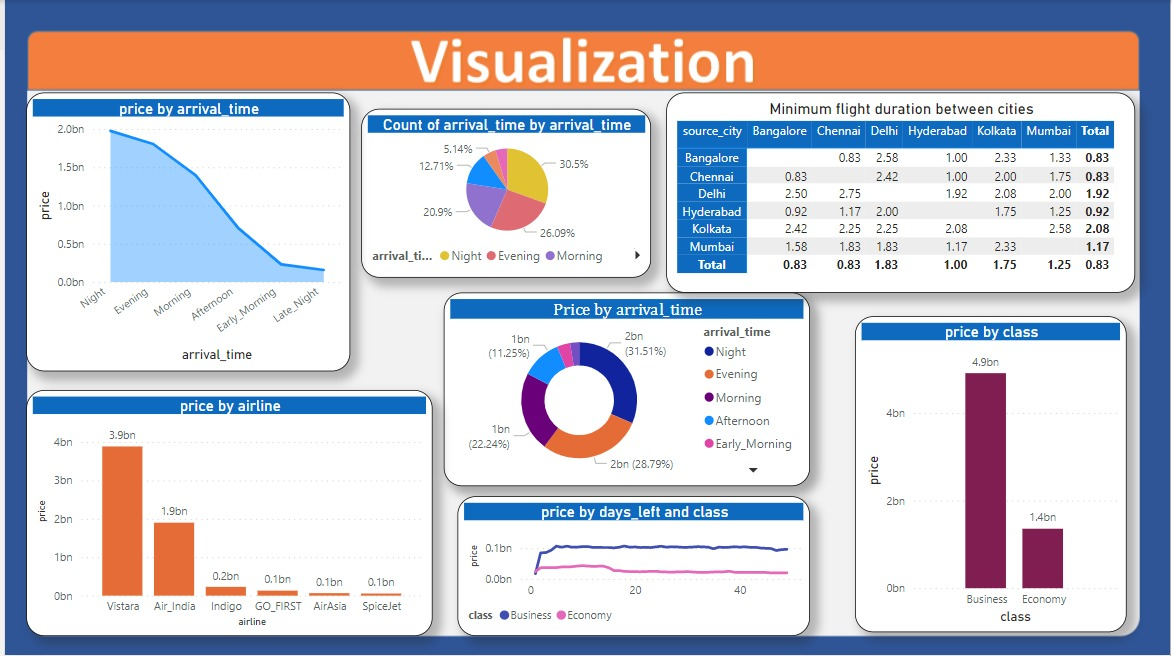

The dashboard page shown, as its layout file describes it:
{"tool":"powerbi","page":{"name":"Page 1","canvas":[1280,720],"ordinal":0},"visuals":[{"type":"donutChart","title":"Price by arrival_time","fields":{"Category":["Clean_Dataset.arrival_time"],"Y":["Sum(Clean_Dataset.price)"]},"box":[482.1,321.4,402.4,212.9],"z":0},{"type":"pieChart","fields":{"Category":["Clean_Dataset.arrival_time"],"Y":["CountNonNull(Clean_Dataset.arrival_time)"]},"box":[391.4,119.5,318.6,185.4],"z":1000},{"type":"pivotTable","title":"Minimum flight duration between cities","fields":{"Rows":["Clean_Dataset.source_city"],"Columns":["Clean_Dataset.destination_city"],"Values":["Min(Clean_Dataset.duration)"]},"box":[726.5,101.6,515,219.7],"z":2000},{"type":"clusteredColumnChart","fields":{"Category":["Clean_Dataset.airline"],"Y":["Sum(Clean_Dataset.price)"]},"box":[23.3,428.5,446.4,270.6],"z":3000},{"type":"clusteredColumnChart","fields":{"Category":["Clean_Dataset.class"],"Y":["Sum(Clean_Dataset.price)"]},"box":[933.9,347.5,298,347.5],"z":4000},{"type":"lineChart","fields":{"Category":["Clean_Dataset.days_left"],"Y":["Sum(Clean_Dataset.price)"],"Series":["Clean_Dataset.class"]},"box":[497.2,545.2,387.3,153.8],"z":5000},{"type":"stackedAreaChart","fields":{"Category":["Clean_Dataset.arrival_time"],"Y":["Sum(Clean_Dataset.price)"]},"box":[23.3,101.6,355.7,306.3],"z":6000}]}

Visuals, with their boxes in screenshot pixels (x1, y1, x2, y2), scaled from the page's 1280x720 canvas onto the 1172x656 screenshot:
"Price by arrival_time" donutChart: [x1=441, y1=293, x2=810, y2=487]
pieChart - Clean_Dataset.arrival_time x CountNonNull(Clean_Dataset.arrival_time): [x1=358, y1=109, x2=650, y2=278]
"Minimum flight duration between cities" pivotTable: [x1=665, y1=93, x2=1137, y2=293]
clusteredColumnChart - Clean_Dataset.airline x Sum(Clean_Dataset.price): [x1=21, y1=390, x2=430, y2=637]
clusteredColumnChart - Clean_Dataset.class x Sum(Clean_Dataset.price): [x1=855, y1=317, x2=1128, y2=633]
lineChart - Clean_Dataset.days_left x Sum(Clean_Dataset.price): [x1=455, y1=497, x2=810, y2=637]
stackedAreaChart - Clean_Dataset.arrival_time x Sum(Clean_Dataset.price): [x1=21, y1=93, x2=347, y2=372]
